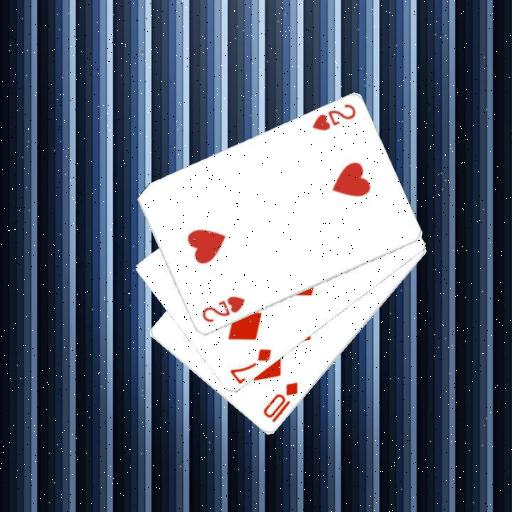10D: (260, 379, 300, 425)
2H: (309, 101, 358, 133), (199, 293, 247, 325)
7D: (226, 346, 273, 385)
